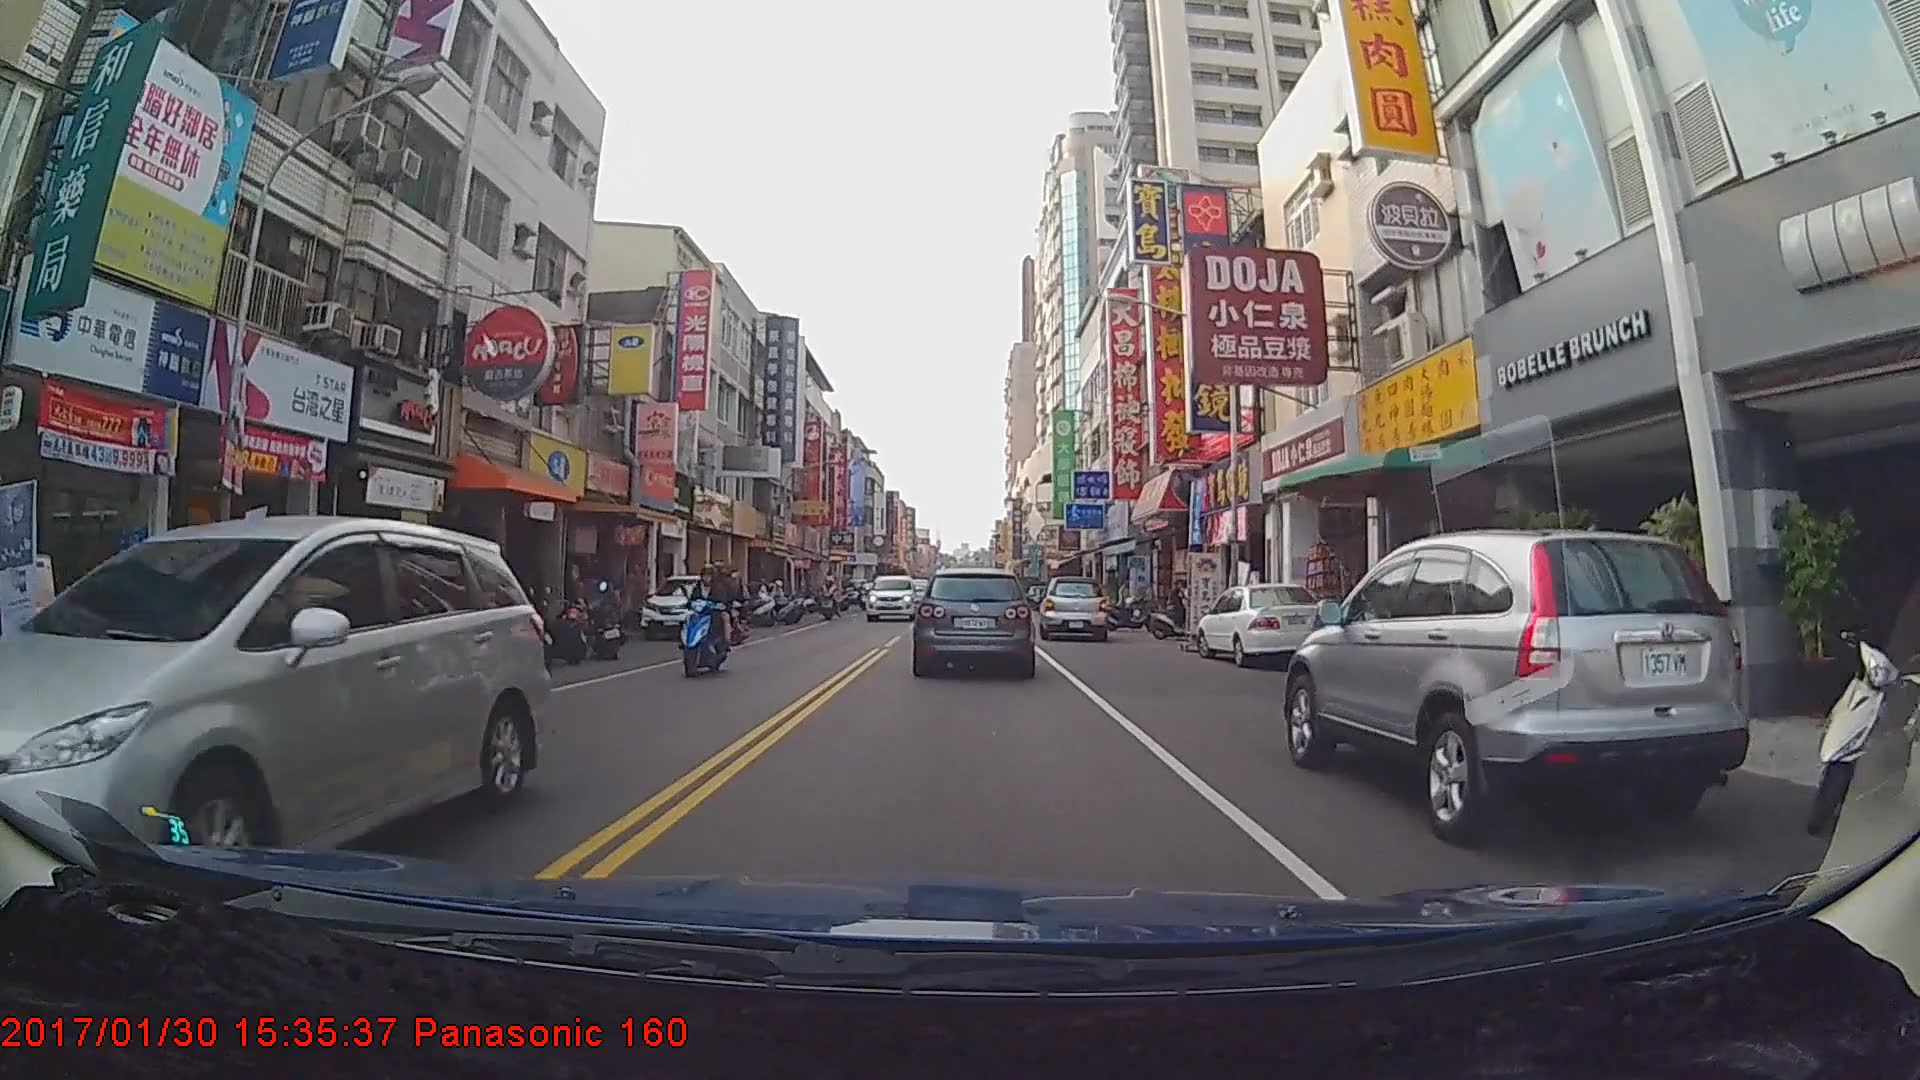rider: (673, 560, 728, 682), (1150, 581, 1206, 642)
vehicle: (0, 517, 552, 924), (1282, 527, 1751, 843), (915, 567, 1033, 675), (1192, 582, 1332, 667), (637, 573, 745, 640), (1036, 576, 1108, 642), (864, 575, 918, 623)
